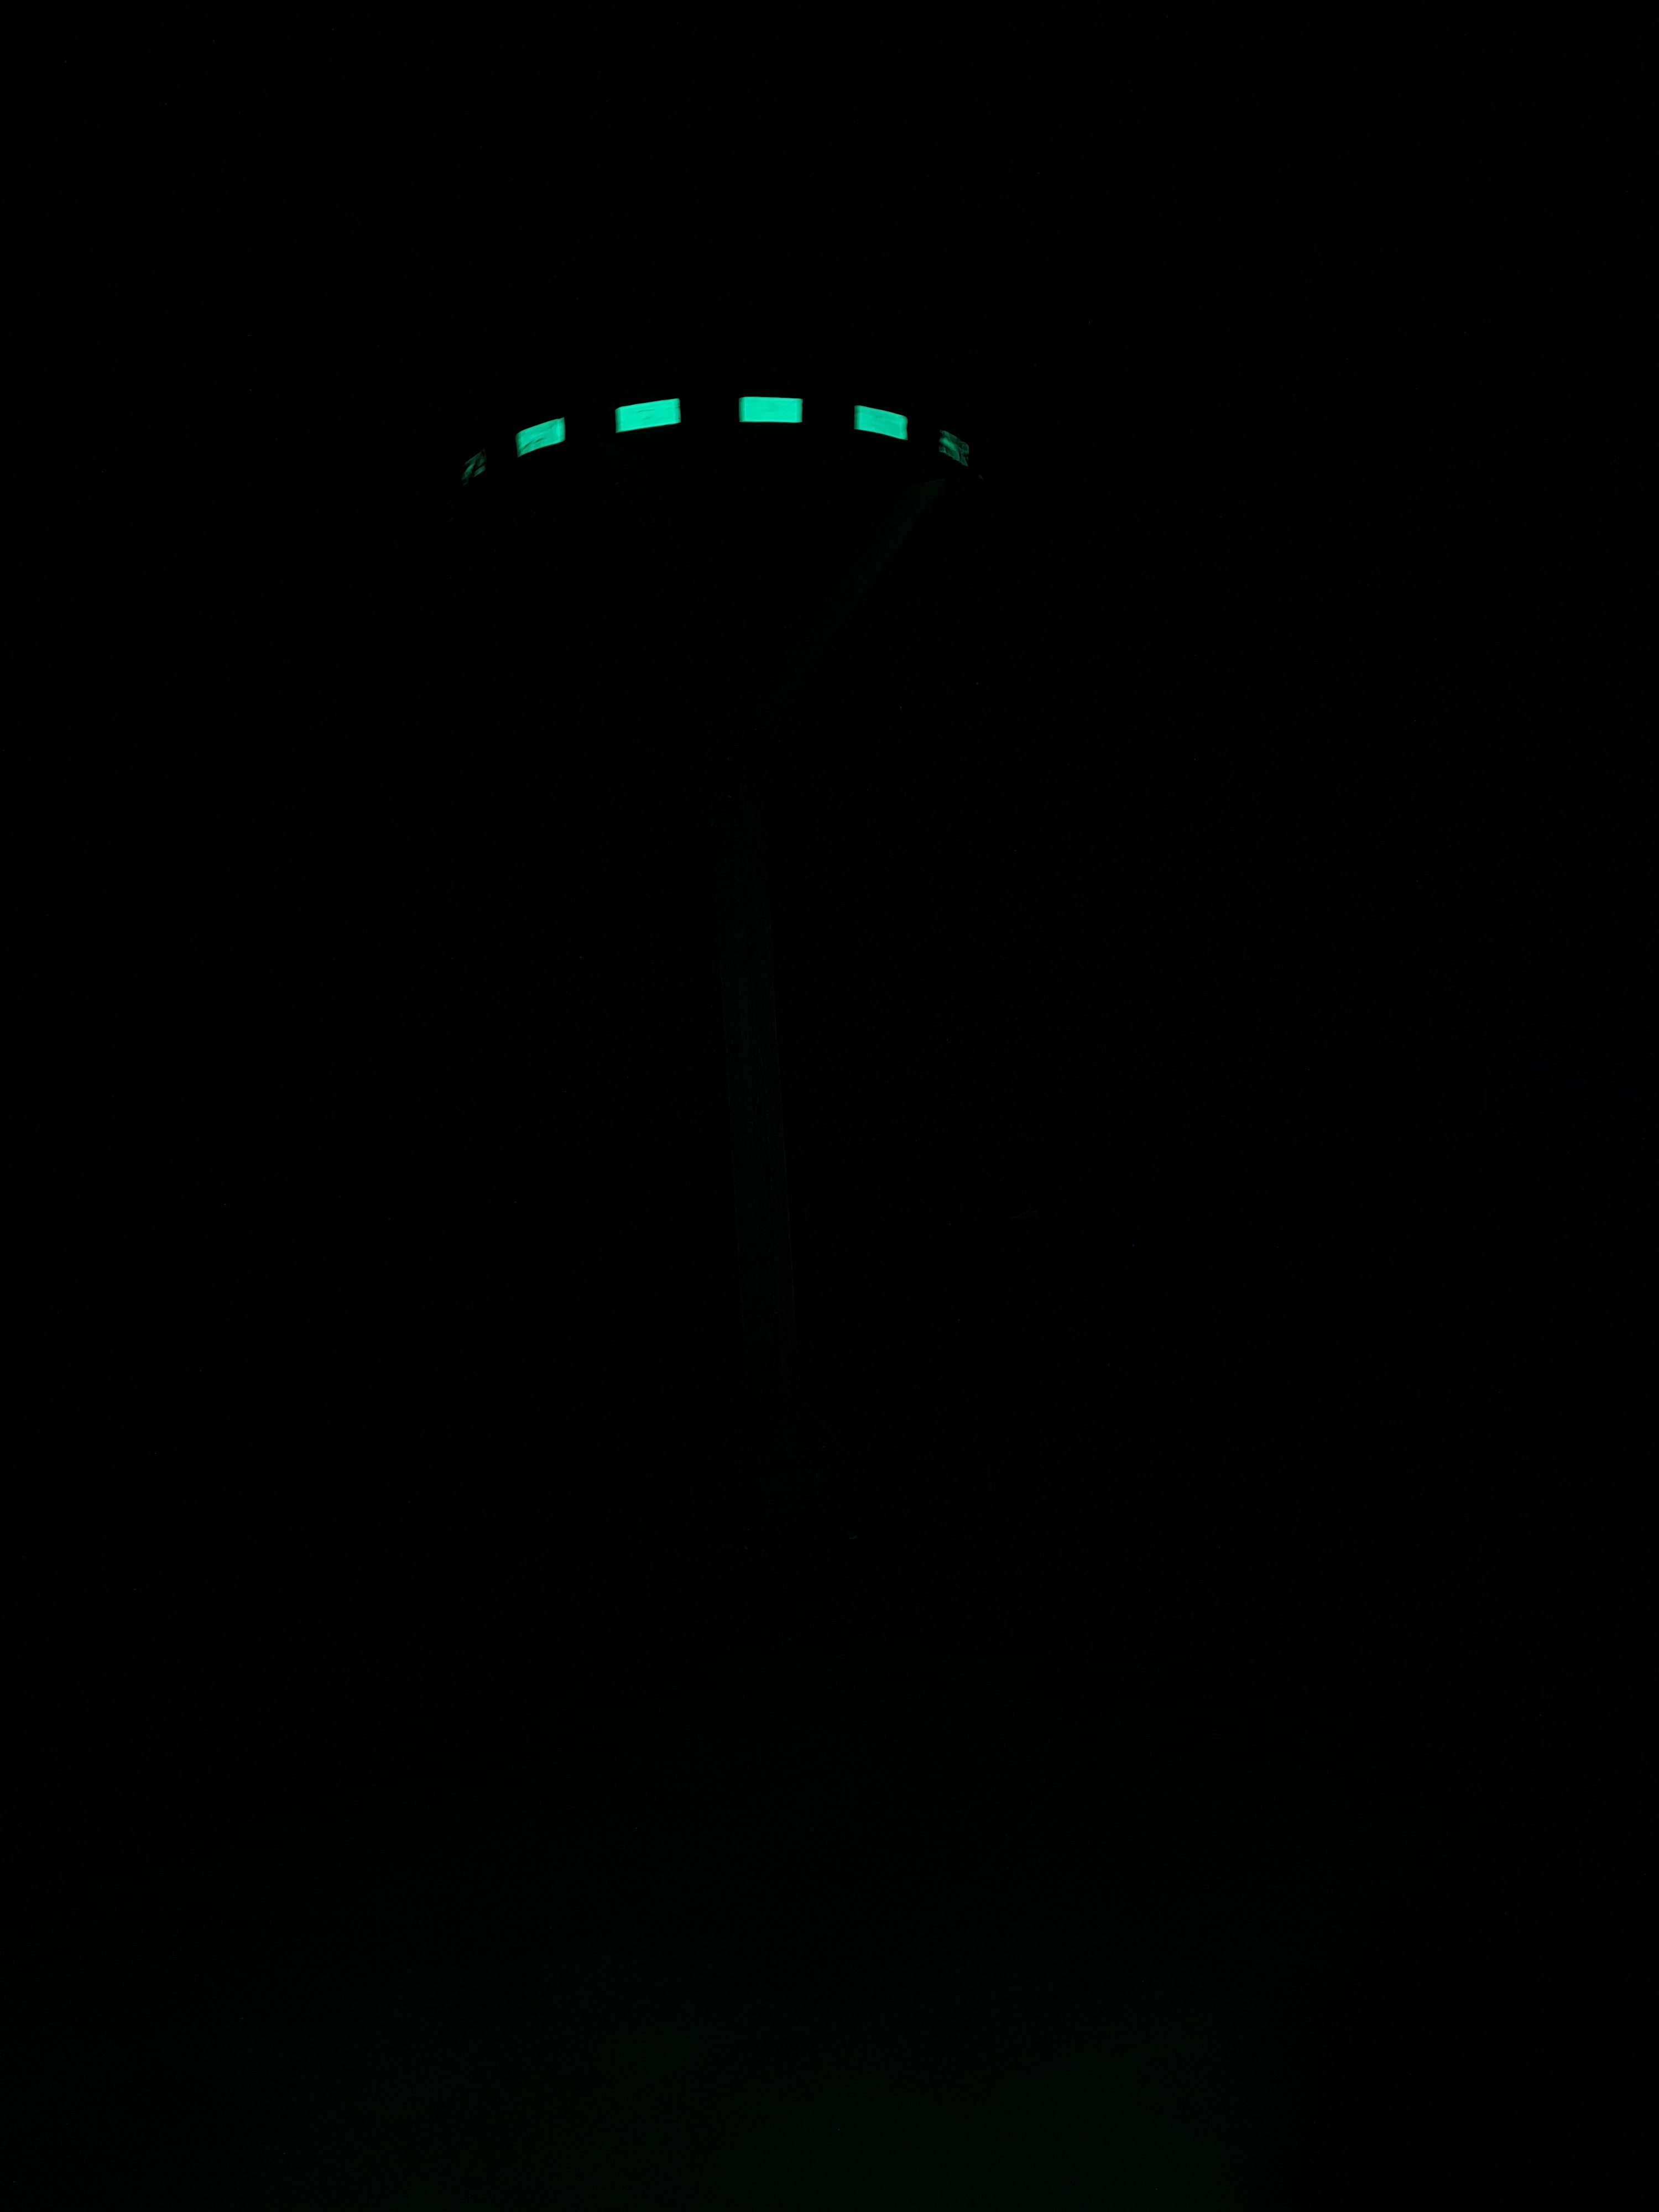hoop: (423, 392, 981, 479)
